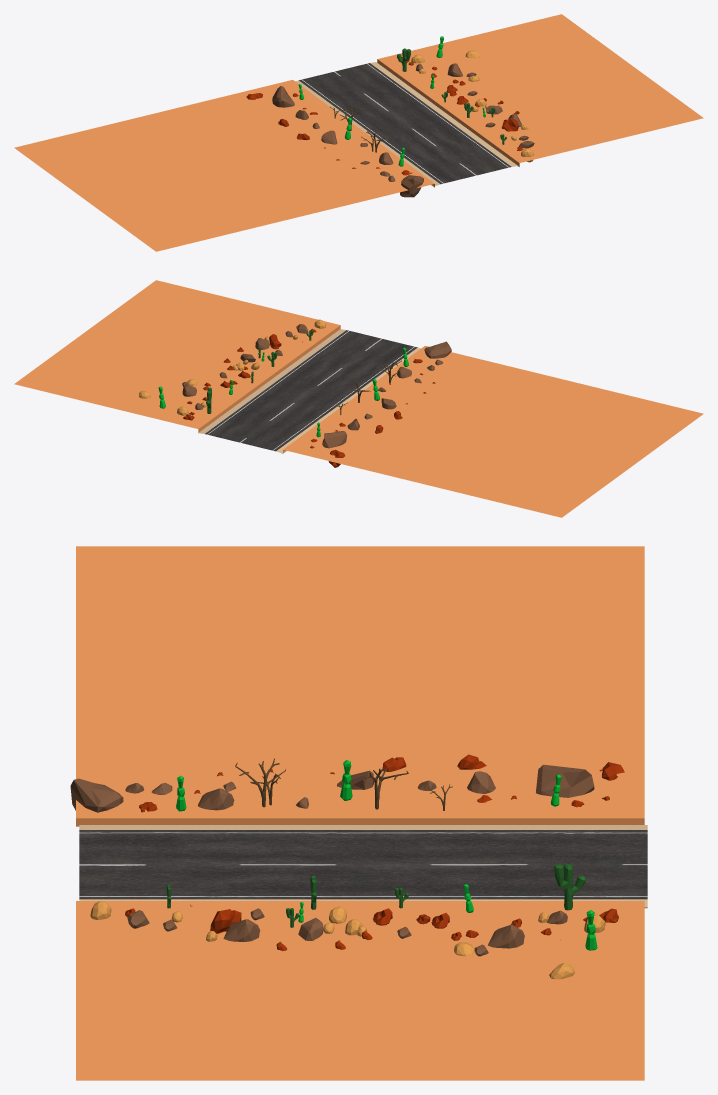
Rendered from sand1.glb.
3 renders of one model, top to bottom at view 1: azimuth 30°, elevation 25°; view 2: azimuth 150°, elevation 25°; view 3: azimuth 270°, elevation 25°, orthographic. The views are drawn at different scales.
Visible parts, largest first — view 1: Cube.001, Cube, Cube.002, Cube.050 - copy.030 - copy.022; view 2: Cube.001, Cube, Cube.002; view 3: Cube.001, Cube, Cube.002, Cube.050 - copy.030 - copy.019, Cube.050 - copy.030 - copy.022.
Part boxes in pixels (x1,y1,x2,y2): Cube.001: (14, 80, 434, 251); Cube: (377, 14, 703, 166); Cube.002: (295, 62, 518, 186); Cube.050 - copy.030 - copy.022: (400, 175, 423, 197); Cube.001: (283, 346, 703, 517); Cube: (14, 280, 340, 432); Cube.002: (198, 329, 420, 453); Cube.001: (76, 546, 644, 826); Cube: (76, 901, 644, 1080); Cube.002: (79, 825, 647, 908); Cube.050 - copy.030 - copy.019: (536, 764, 594, 797); Cube.050 - copy.030 - copy.022: (70, 778, 123, 812).
Size of the model in its own units: 83.79 by 5.89 by 38.22.
8 materials, 1 textured.
